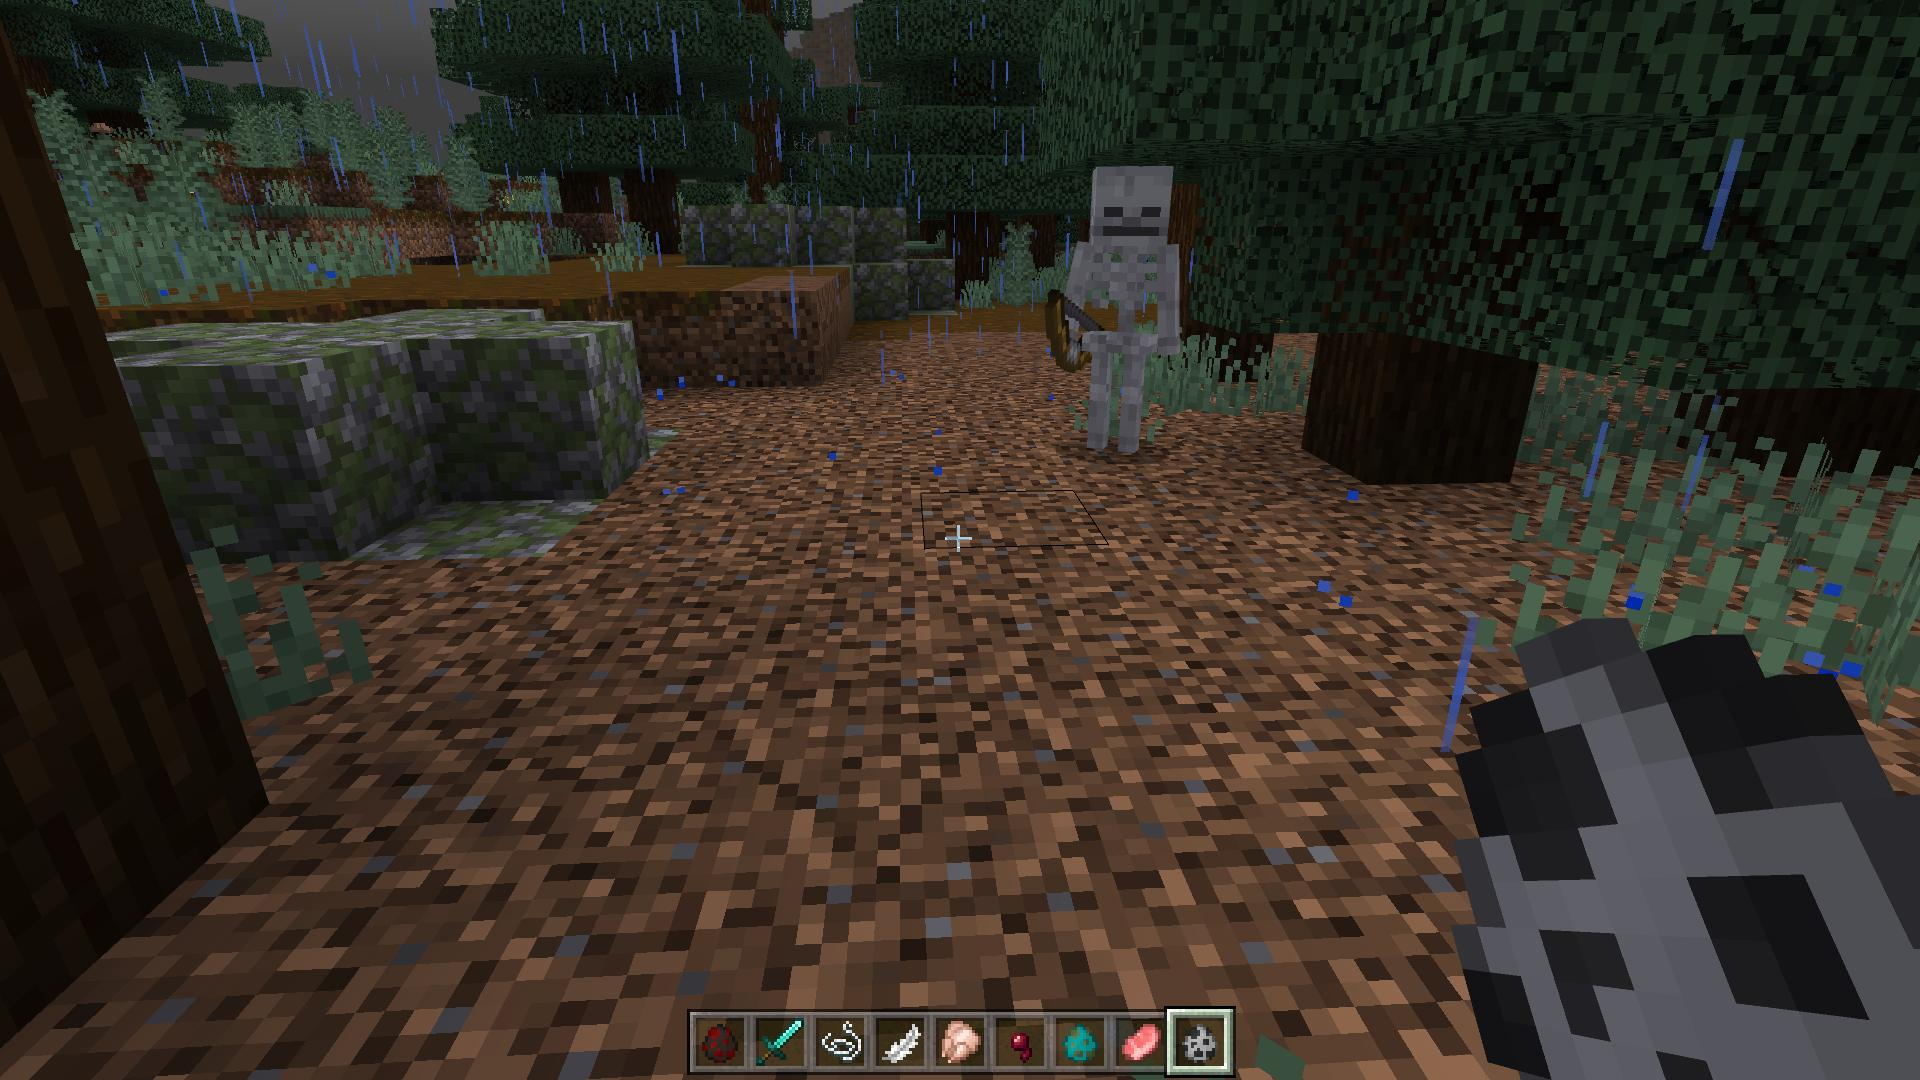skeleton: (1044, 162, 1180, 455)
